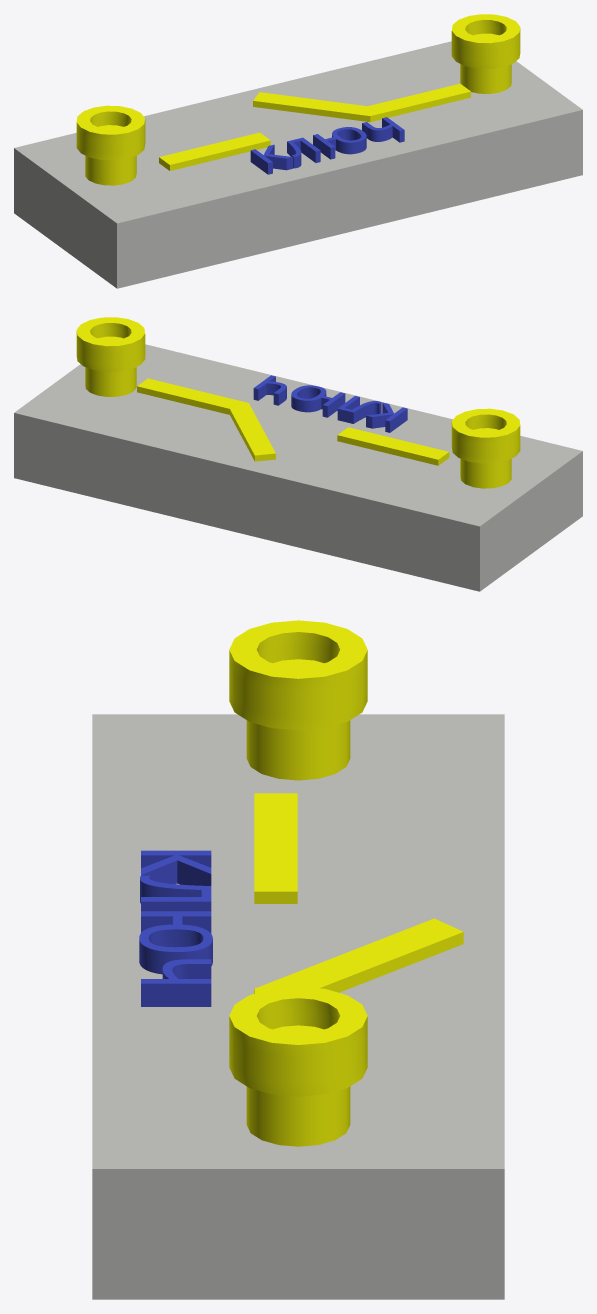
File: ключ.fbx
3 views of the same model, one above another, from view 1: azimuth 30°, elevation 25°; view 2: azimuth 150°, elevation 25°; view 3: azimuth 270°, elevation 25° (orthographic). The views are drawn at different scales.
Parts seen in each view (by area): view 1: Выдавливание_3; view 2: Выдавливание_3; view 3: Выдавливание_3.
Part boxes in pixels (<box>): Выдавливание_3: <box>14,14,582,288</box>; Выдавливание_3: <box>14,317,582,591</box>; Выдавливание_3: <box>92,620,504,1299</box>.
Bounding box in the file's own units: 521 × 128 × 200.
